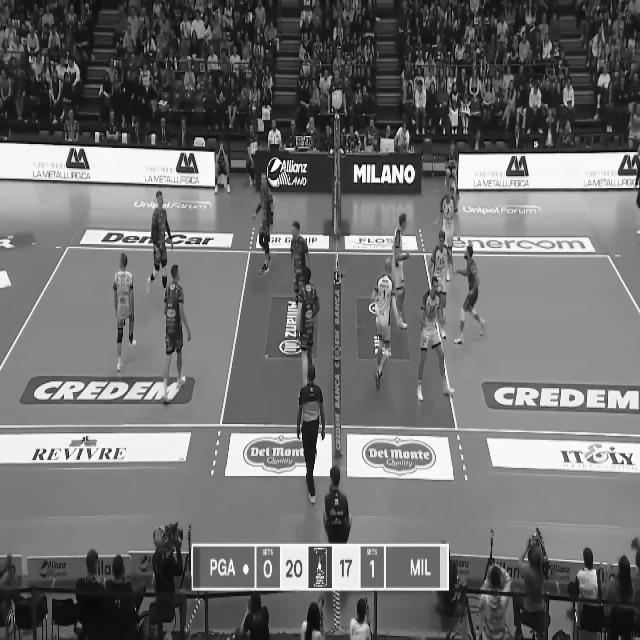volleyball court: (1, 245, 638, 432)
